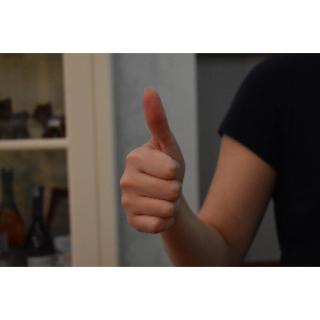ALIF: (120, 84, 192, 239)
